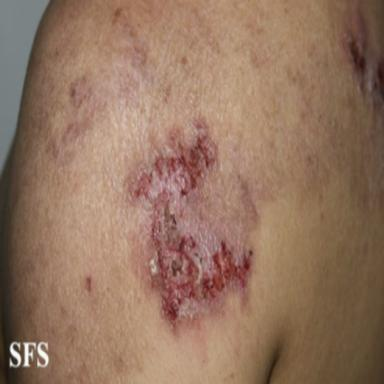Hailey-Hailey-Disease: (127, 116, 259, 324), (342, 7, 384, 114)
